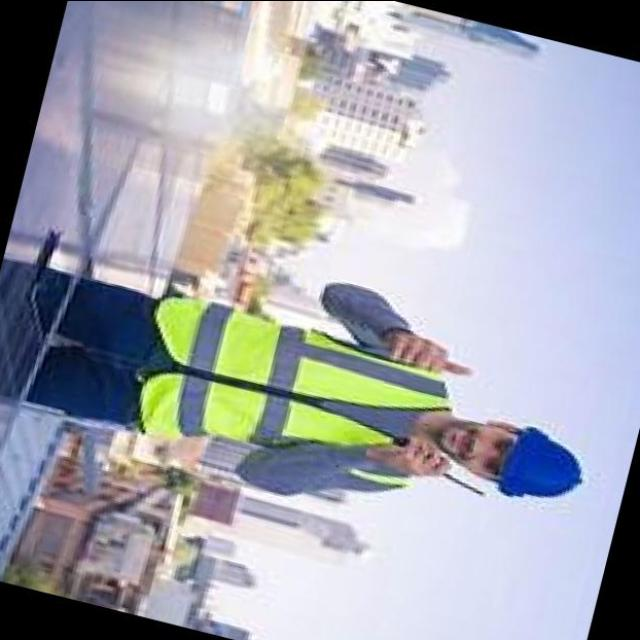not-gloved: (377, 321, 484, 384), (362, 432, 462, 496)
